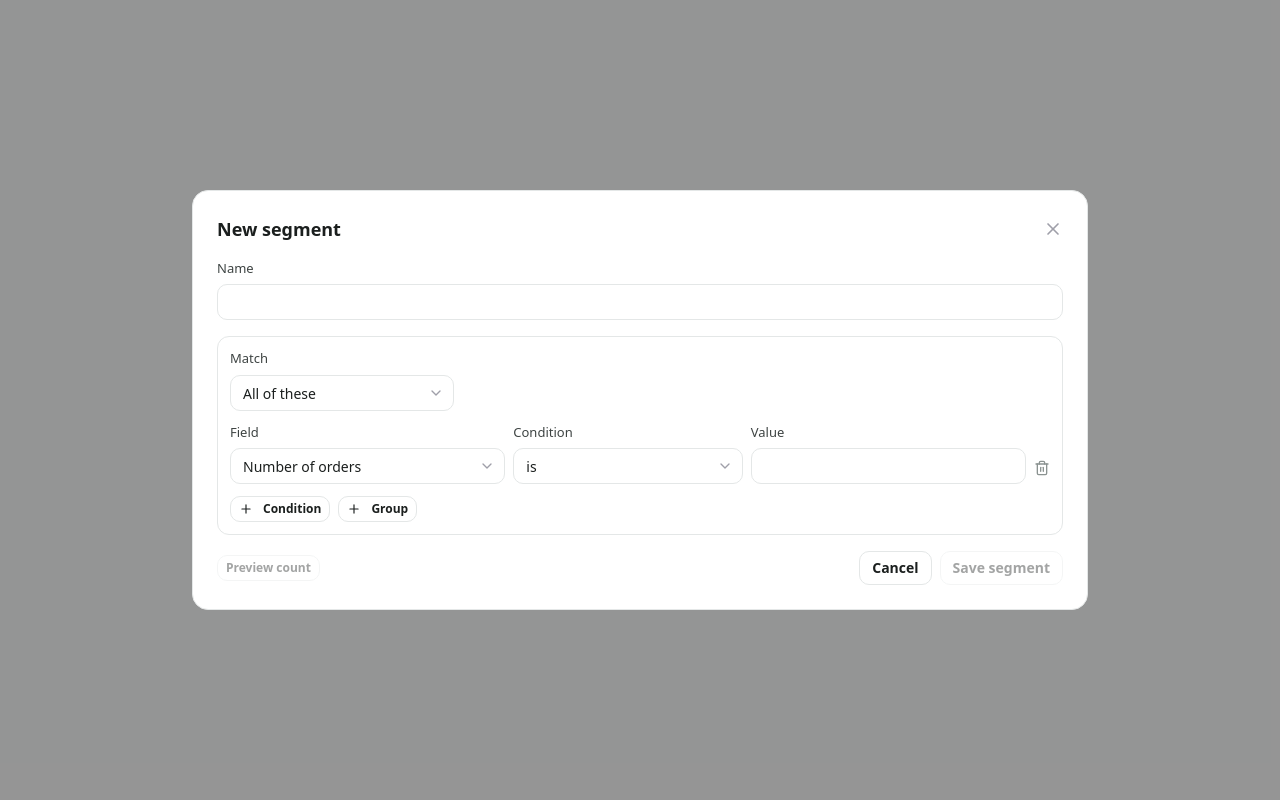
Test case: SegmentBuilderModal › drops a stale count the moment the rules change
This screenshot has width=1280, height=800.
Type "3" into the field labelled "Value". click: (888, 466)
box: x1=751 y1=448 x2=1026 y2=484
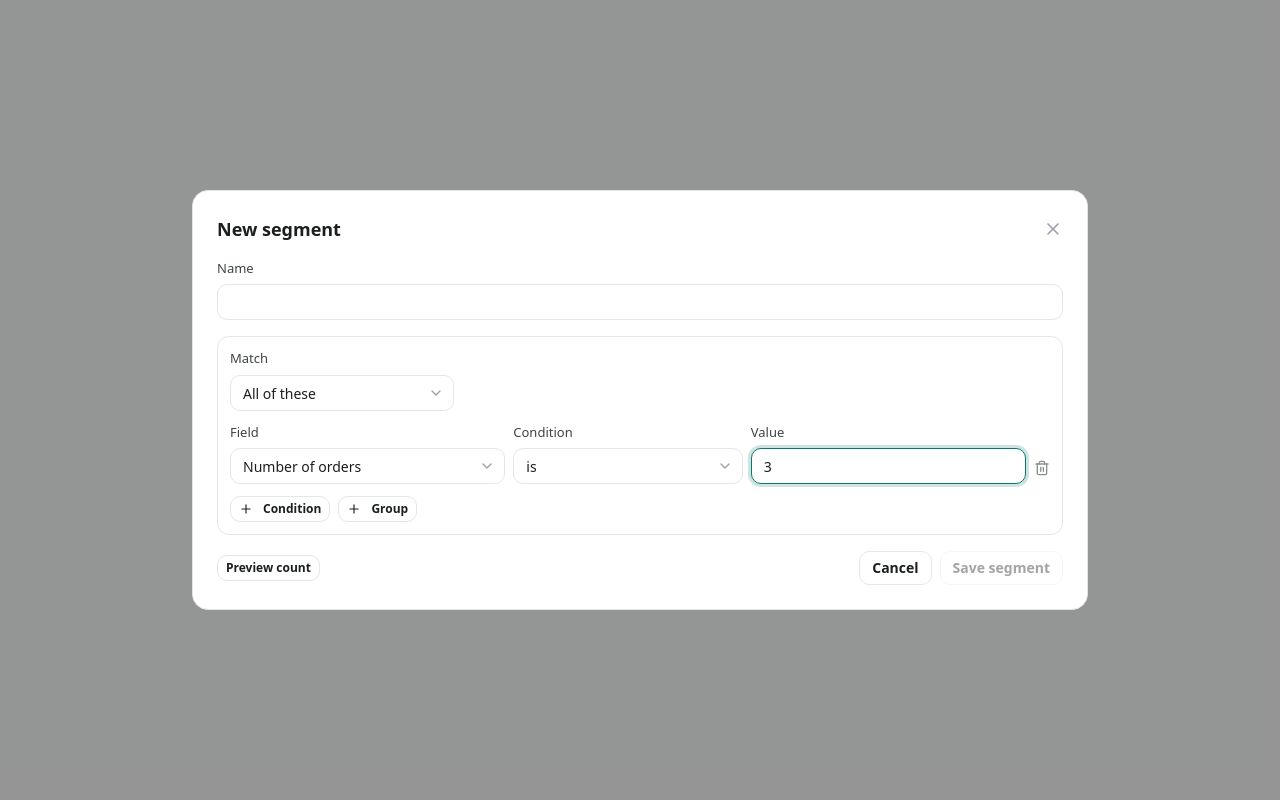
Click the button "Preview count". click: (268, 568)
box: x1=217 y1=555 x2=320 y2=581
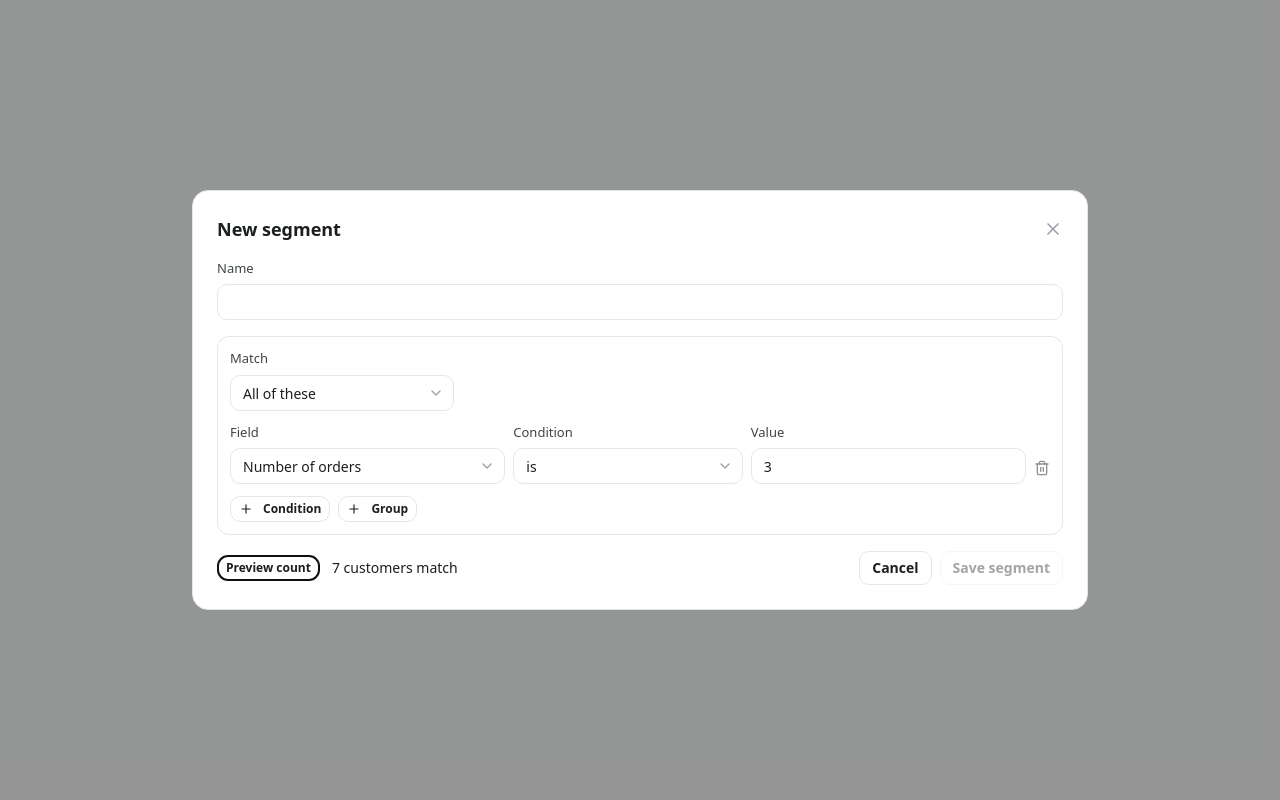
Result: the text "7 customers match" is shown at x1=332 y1=558 x2=458 y2=578
Type "4" into the field labelled "Value". click: (888, 466)
box: x1=751 y1=448 x2=1026 y2=484
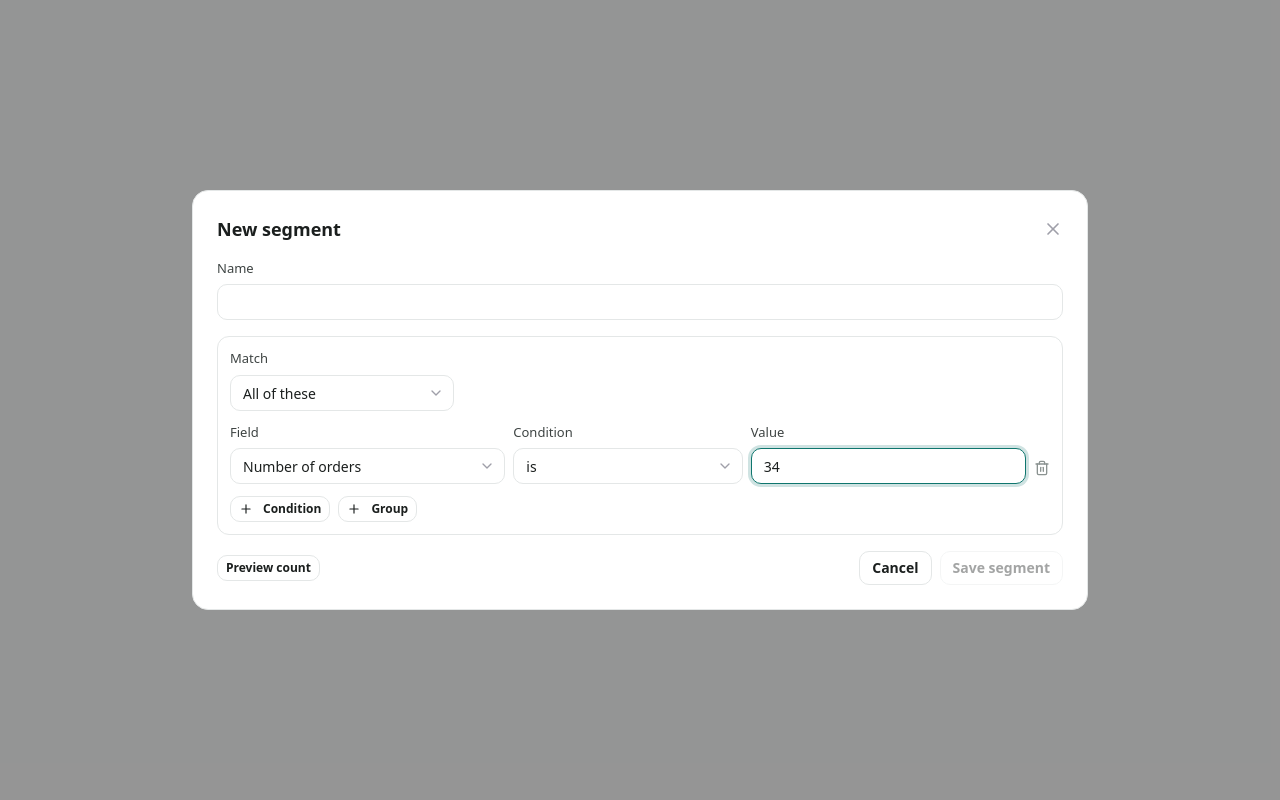
Result: the text "7 customers match" is gone
